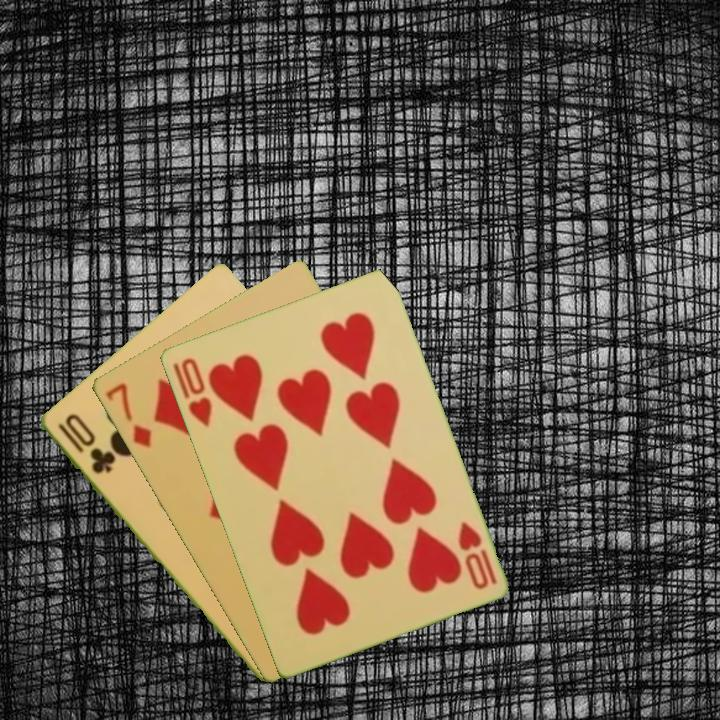10c: (53, 410, 118, 477)
10h: (168, 354, 215, 429), (454, 517, 500, 593)
7d: (101, 379, 154, 452)
